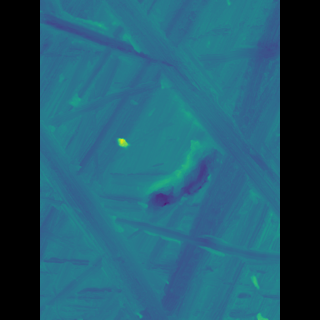Loch: (116, 0, 253, 221), (68, 124, 164, 320), (125, 213, 250, 265)
